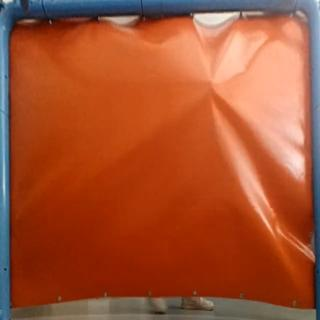Hit-hRxx: (202, 76, 219, 94)
